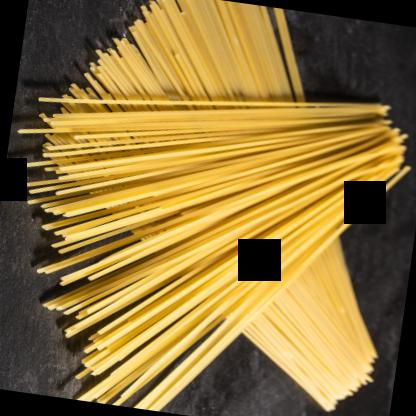pasta: (8, 0, 415, 415), (0, 62, 410, 415)
